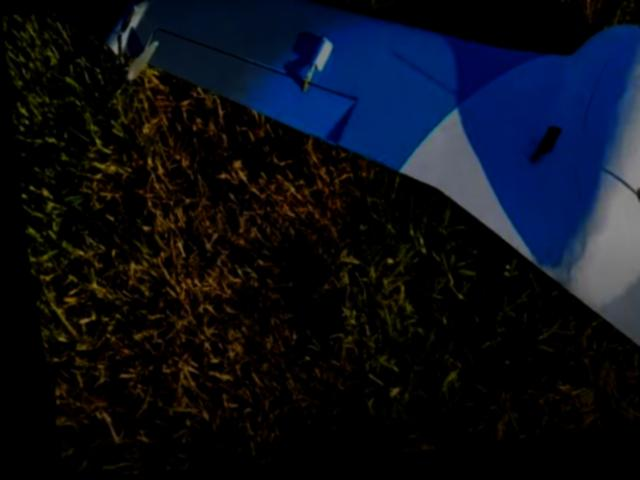iha: (96, 0, 640, 474)
